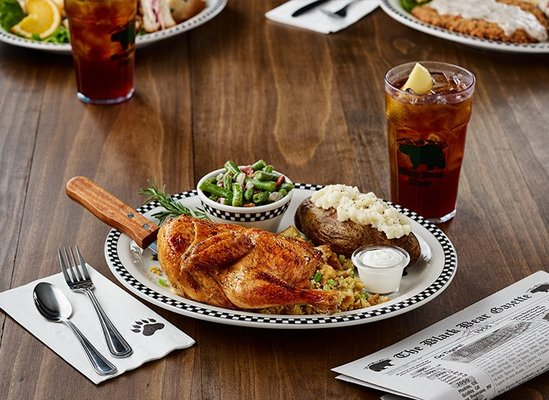burger: (58, 245, 133, 358), (33, 281, 116, 374)
pizza: (384, 60, 477, 226), (63, 0, 139, 106), (352, 245, 410, 294)
salad: (33, 281, 117, 375)
soup: (293, 183, 422, 268)
sushi: (197, 160, 296, 233), (0, 0, 71, 55), (352, 245, 410, 294)
